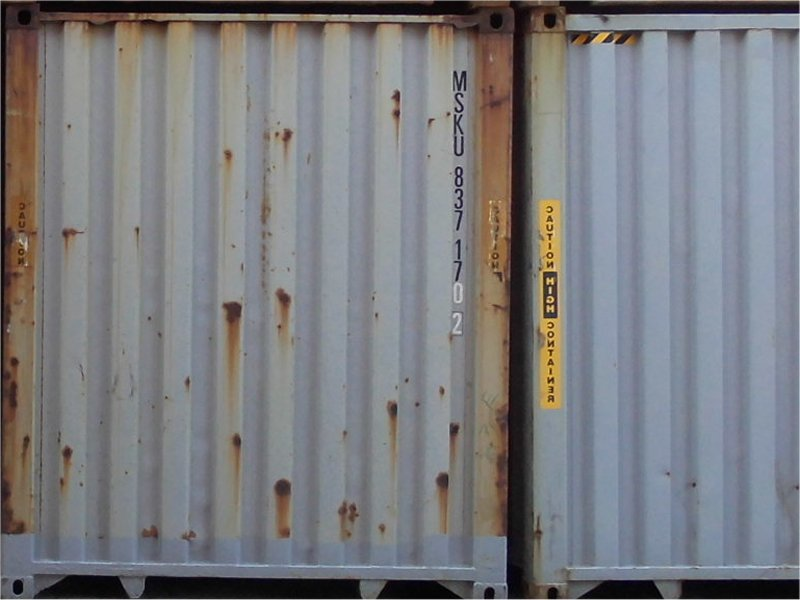container_no_door: (9, 2, 508, 600), (528, 3, 799, 592)
